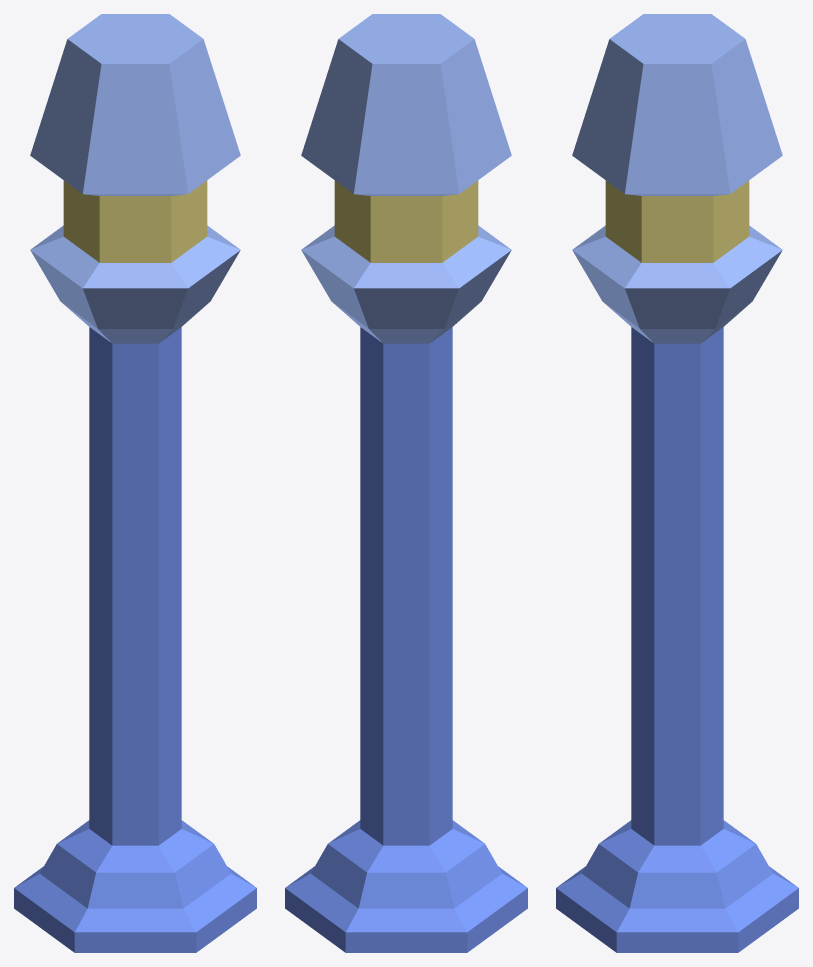
File: Lamp 1.fbx
3 renders of one model, left to right at view 1: azimuth 30°, elevation 25°; view 2: azimuth 150°, elevation 25°; view 3: azimuth 270°, elevation 25°, orthographic.
Parts seen in each view (by area): view 1: Lamp 1; view 2: Lamp 1; view 3: Lamp 1.
Boxes of the visible parts, box(x1,y1,x2,y2) form: Lamp 1: box(14, 14, 256, 952); Lamp 1: box(285, 14, 527, 952); Lamp 1: box(556, 14, 798, 952).
Bounding box in the file's own units: 173 × 790 × 200.
